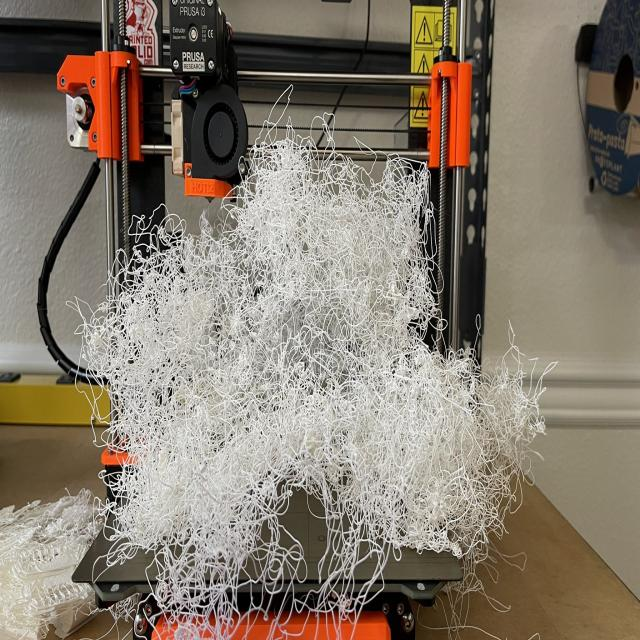spaghetti: (91, 158, 541, 597)
